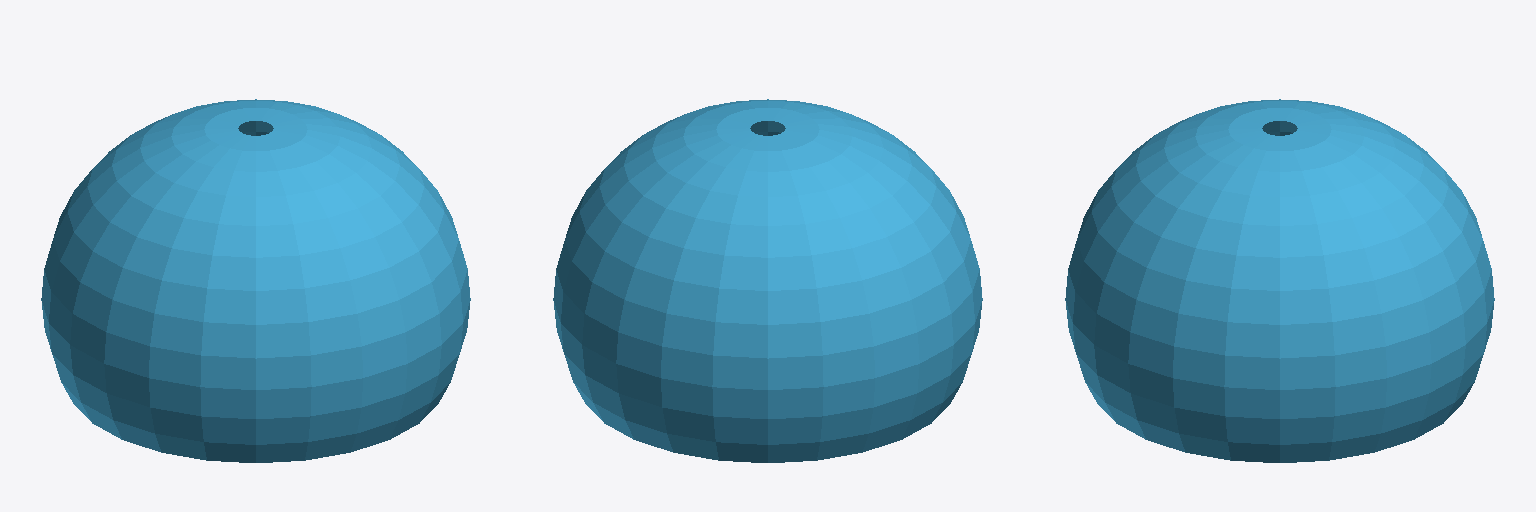
Rendered from original-1.obj.
The picture shows the model from 3 angles: view 1: azimuth 30°, elevation 25°; view 2: azimuth 150°, elevation 25°; view 3: azimuth 270°, elevation 25°; orthographic projection.
Visible parts, largest first — view 1: Group1/mesh1/mesh1-geometry#mesh1-geometry; view 2: Group1/mesh1/mesh1-geometry#mesh1-geometry; view 3: Group1/mesh1/mesh1-geometry#mesh1-geometry.
Boxes of the visible parts, box(x1,y1,x2,y2) form: Group1/mesh1/mesh1-geometry#mesh1-geometry: box(41, 99, 470, 462); Group1/mesh1/mesh1-geometry#mesh1-geometry: box(553, 99, 982, 462); Group1/mesh1/mesh1-geometry#mesh1-geometry: box(1065, 99, 1494, 462).
Bounding box in the file's own units: 0.6462 × 0.4242 × 0.6462.